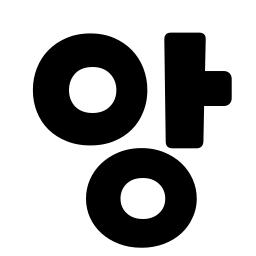Gaji: (155, 62, 220, 122)
